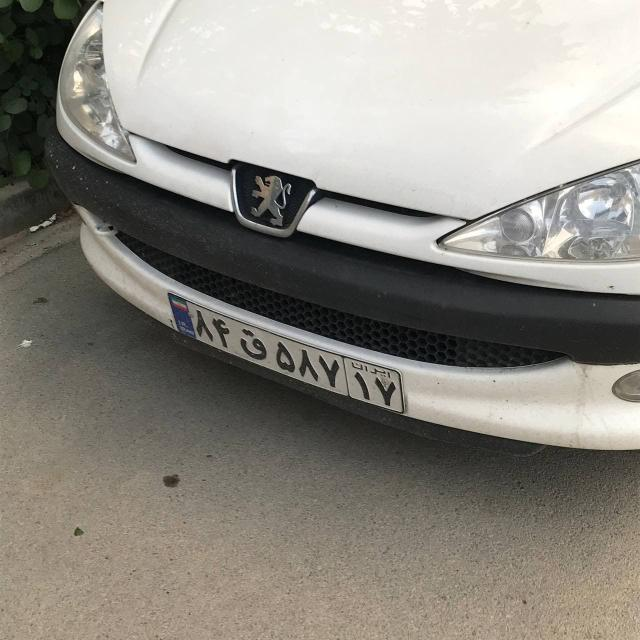Plates: (154, 291, 418, 418)
